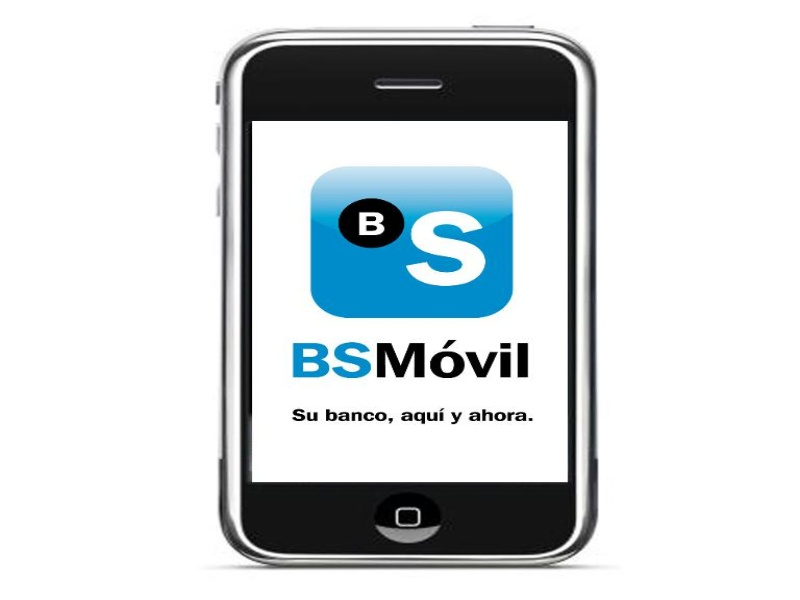cellphone: (210, 29, 614, 576)
